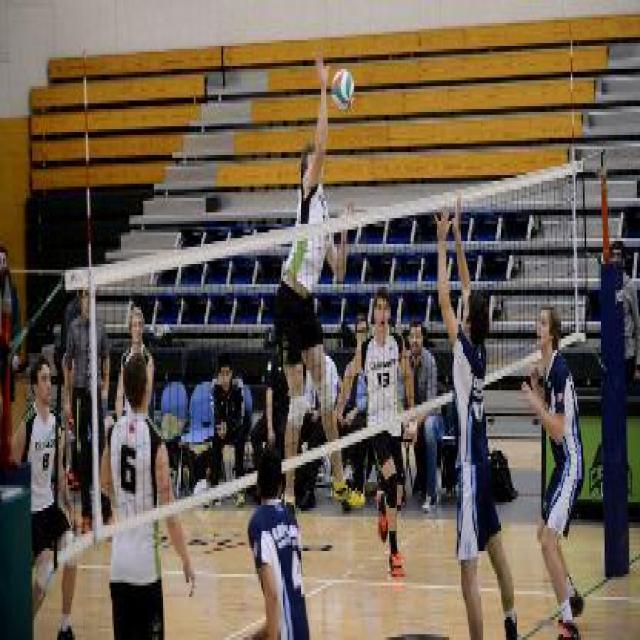volleyball: (332, 69, 354, 110)
